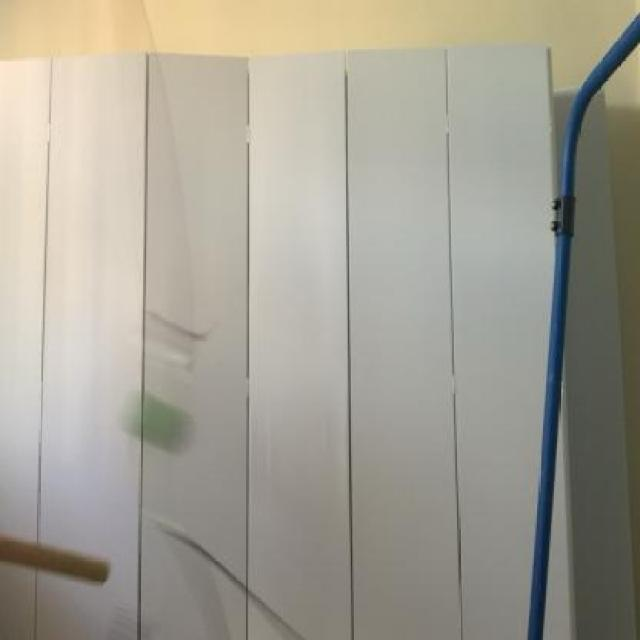baseball: (109, 386, 202, 454)
